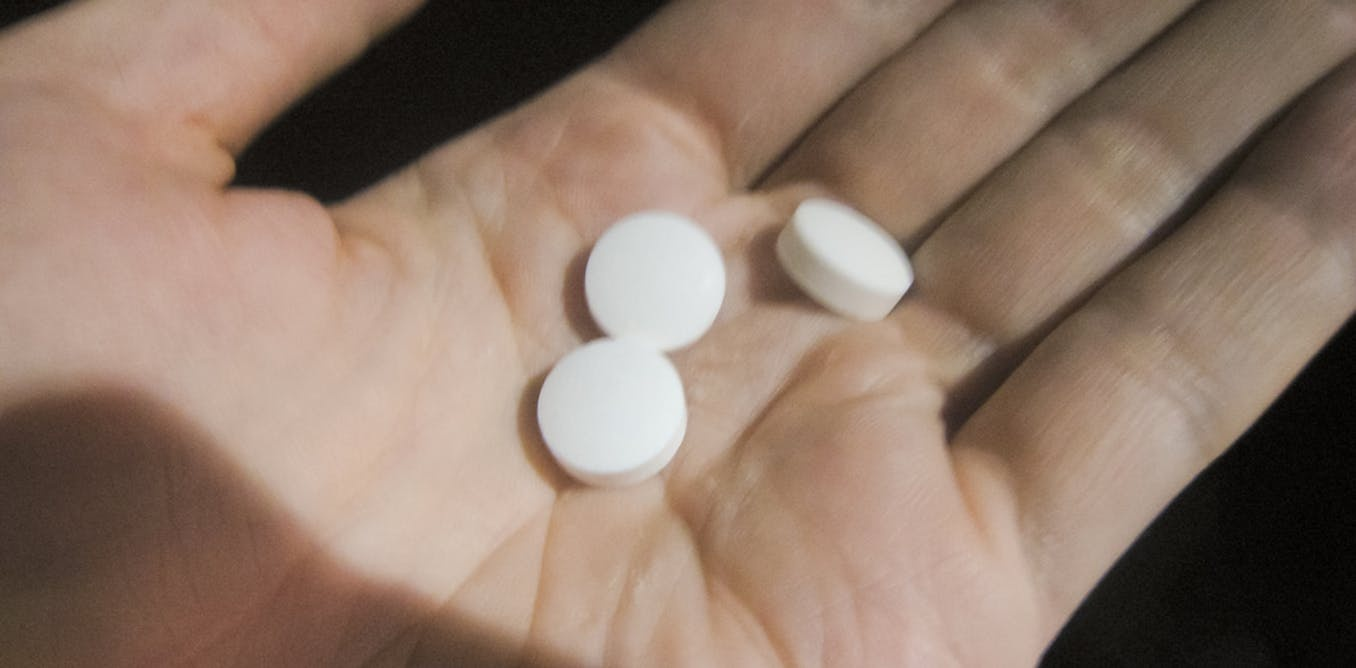pills: (533, 337, 702, 482), (781, 206, 924, 324), (597, 213, 717, 338)
